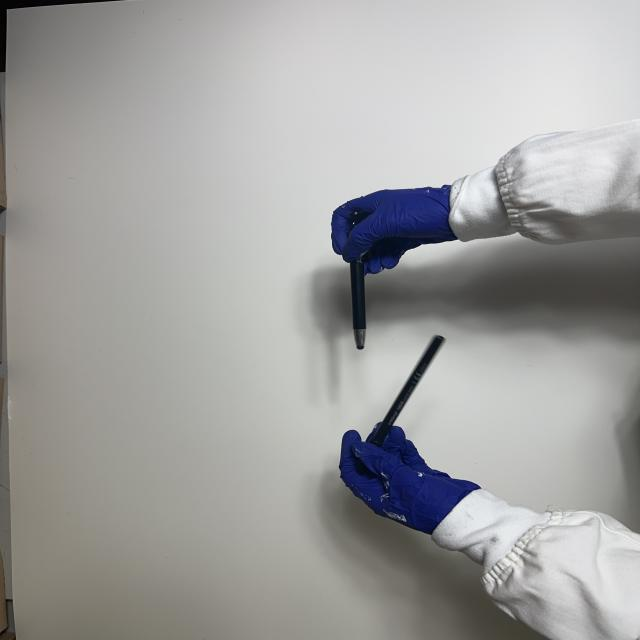gloves_contaminated: (340, 427, 479, 534), (332, 185, 457, 274)
